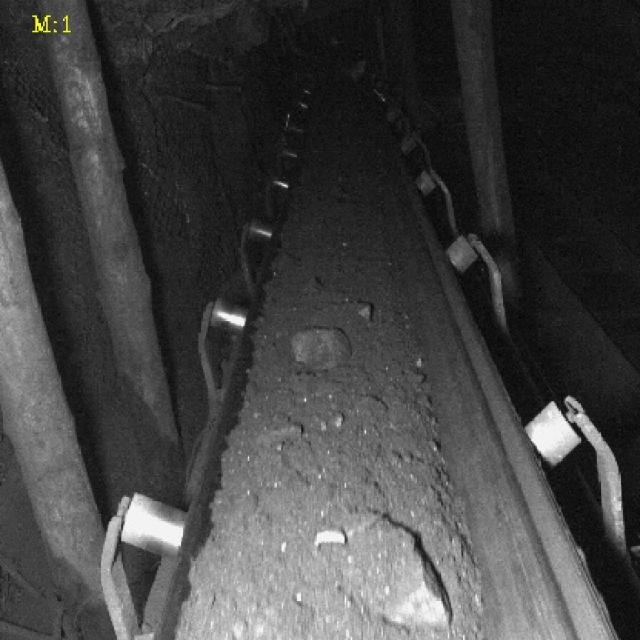large_sized_coal: (349, 517, 449, 625), (291, 328, 354, 377)
